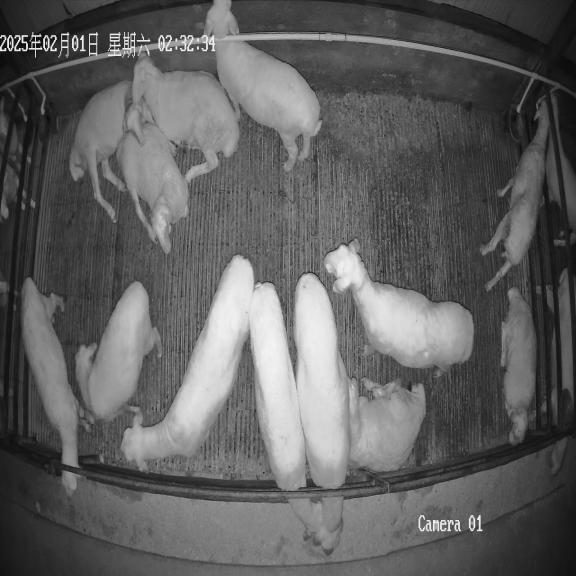eating: (249, 282, 327, 540), (294, 272, 350, 558), (21, 277, 85, 497)
lying: (132, 54, 239, 182), (69, 80, 143, 222), (116, 123, 189, 254), (348, 378, 426, 473), (500, 287, 536, 444)
stand: (121, 255, 254, 472), (324, 240, 474, 377), (203, 0, 321, 173), (480, 100, 549, 290), (76, 281, 161, 422)
